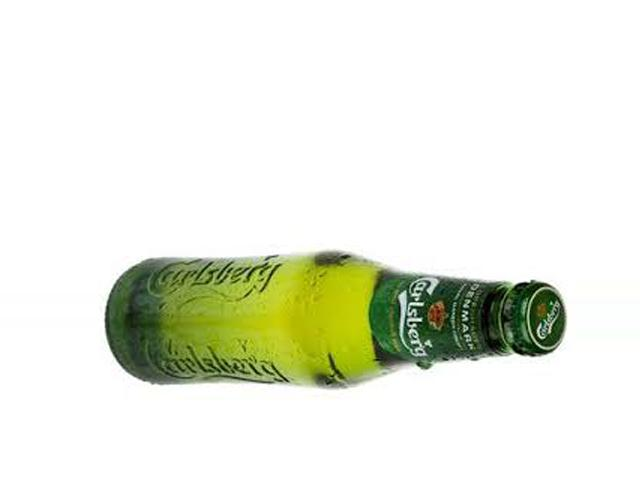beer: (102, 254, 564, 388)
